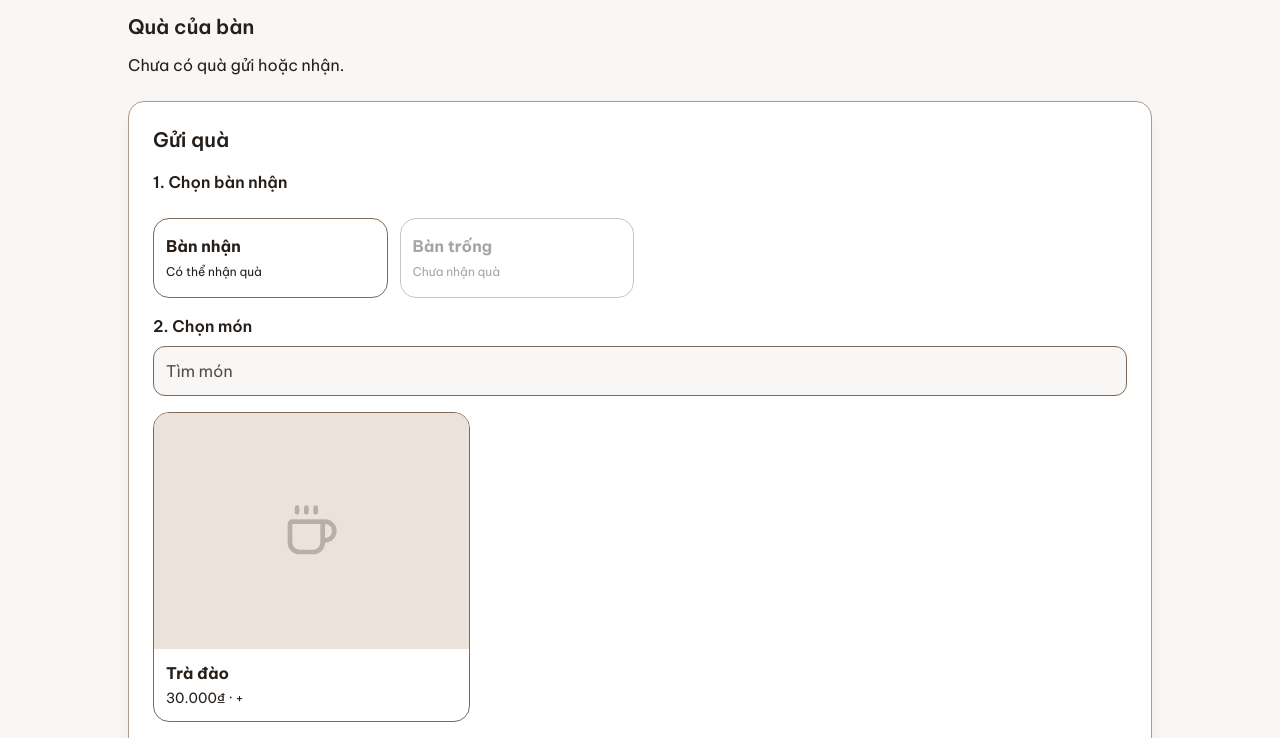
Test: anonymous gift UI › lets the sender choose to show their table for this gift and resets the next draft to anonymous
Click the button "Bàn nhận Có thể nhận quà".
click(270, 258)  # box [153,218,388,298]
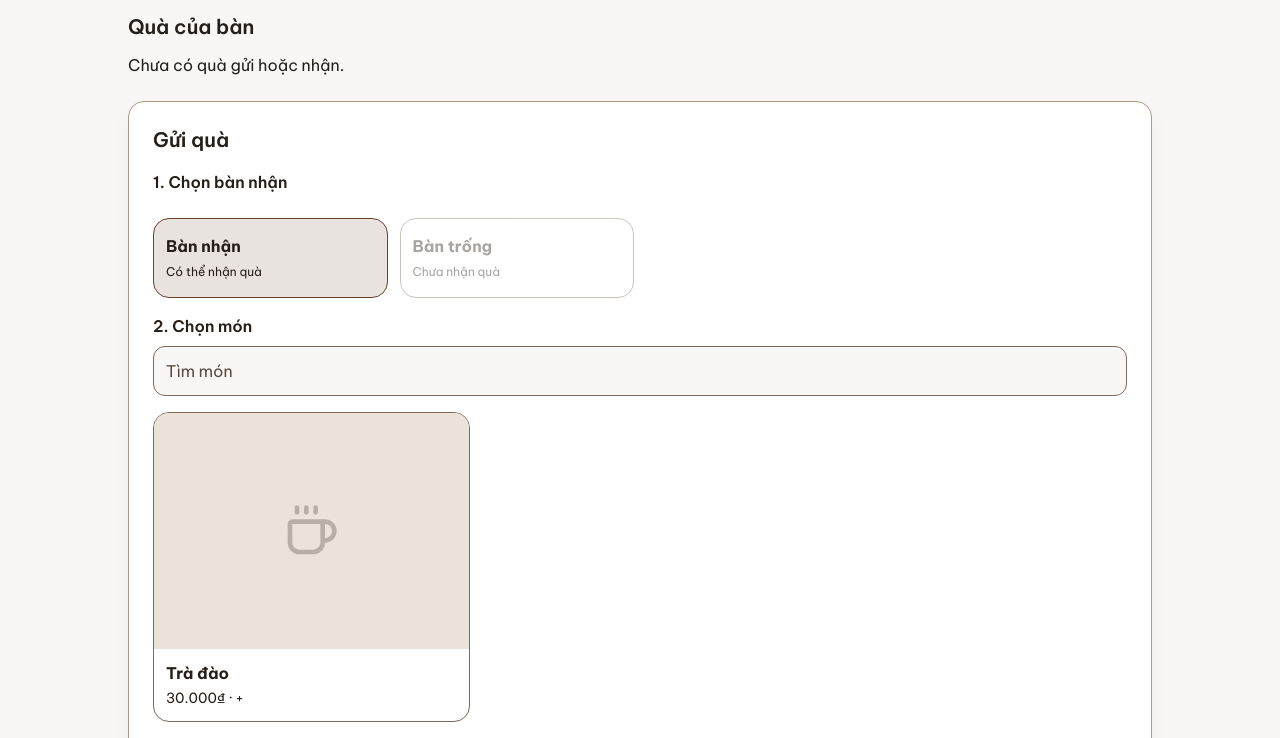
Click the button "Trà đào 30.000₫ · +".
click(311, 567)  # box [153,412,470,722]
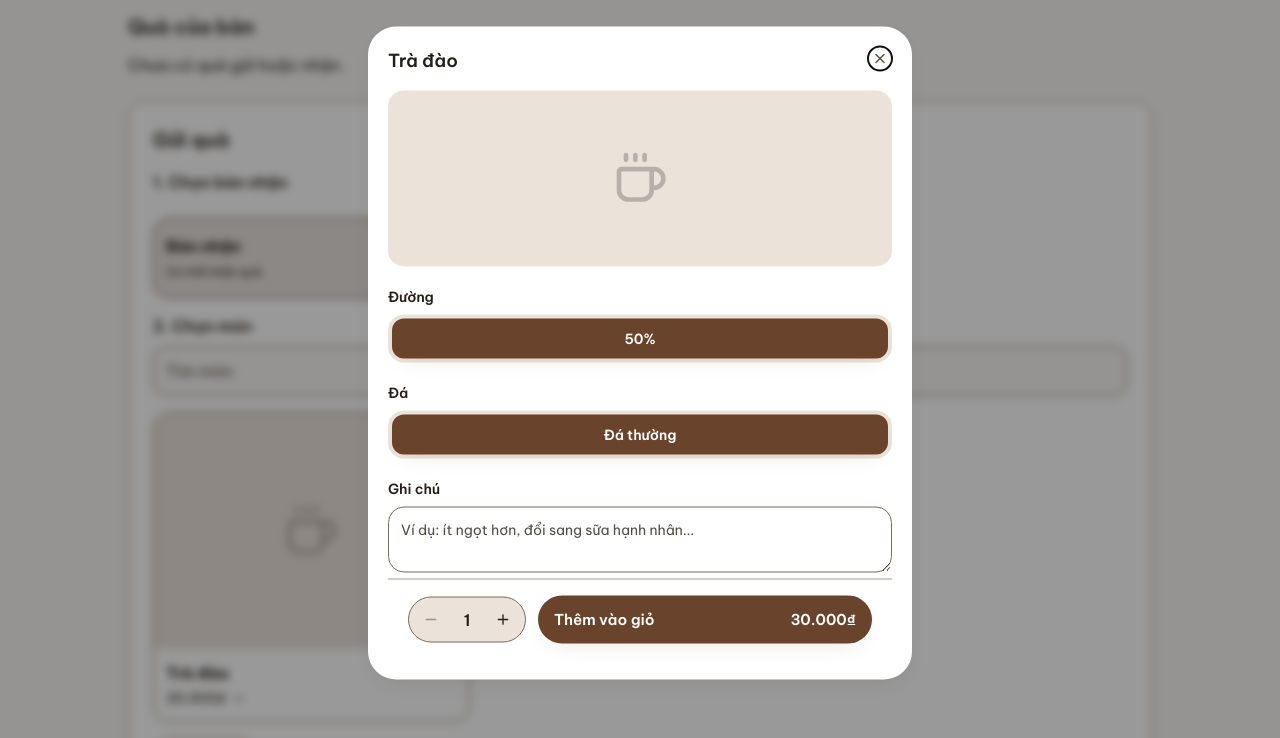
Click the button "Thêm vào giỏ 30.000₫".
click(604, 619)  # box [538,596,872,644]
(page scrolled)
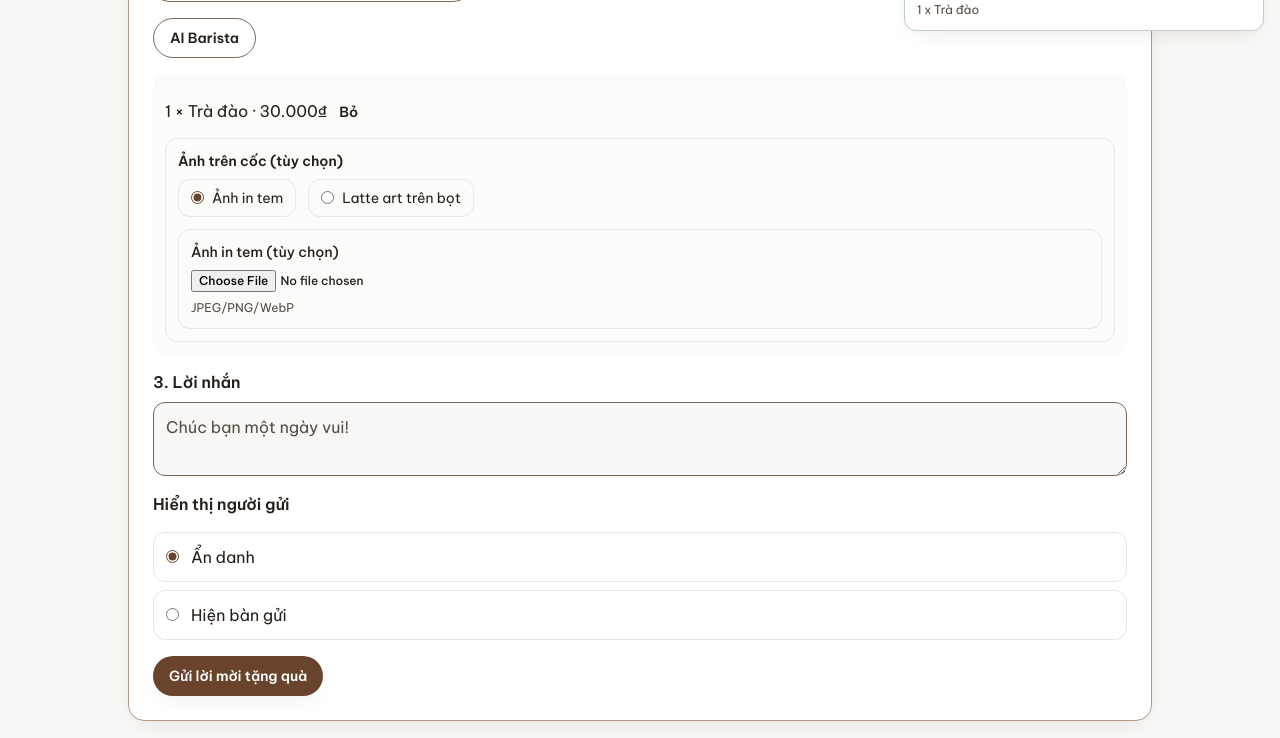
Expected: the dialog is gone
Click the radio button labelled "Hiện bàn gửi".
click(172, 615)  # box [166,608,179,622]
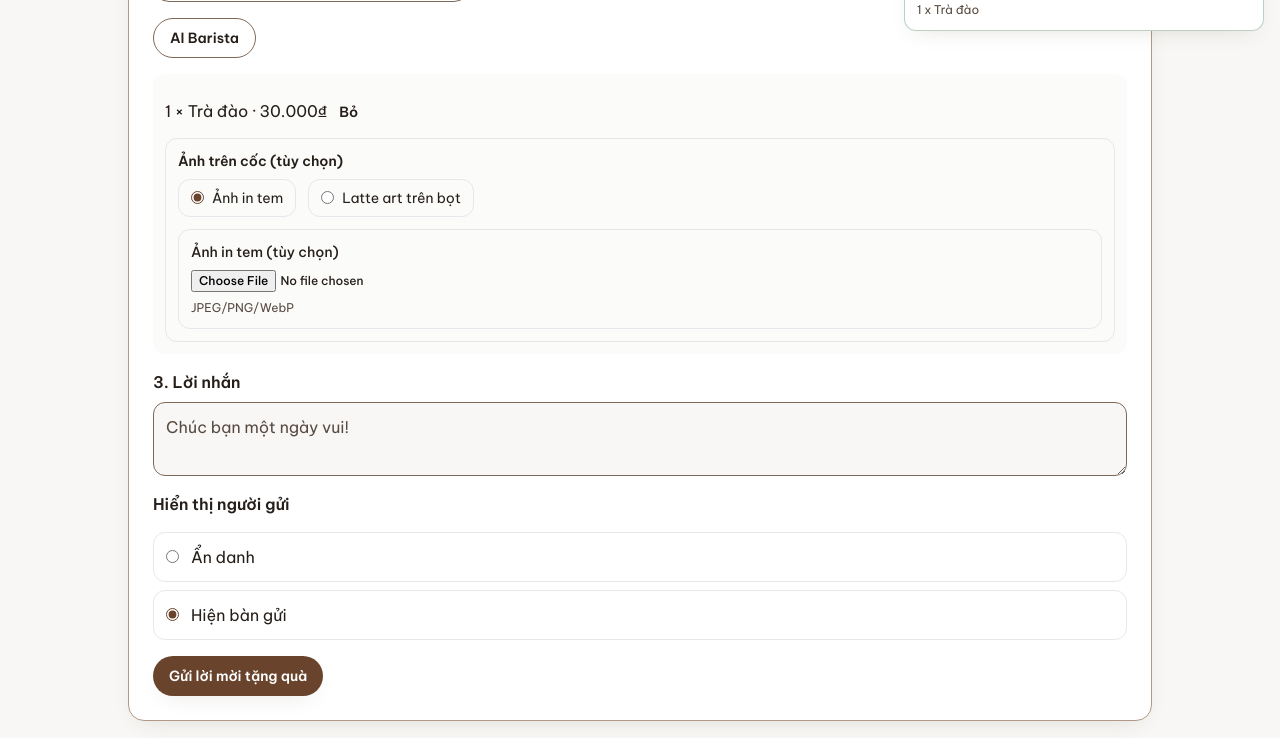
Click the button "Gửi lời mời tặng quà".
click(238, 676)  # box [153,656,323,696]
(page scrolled)
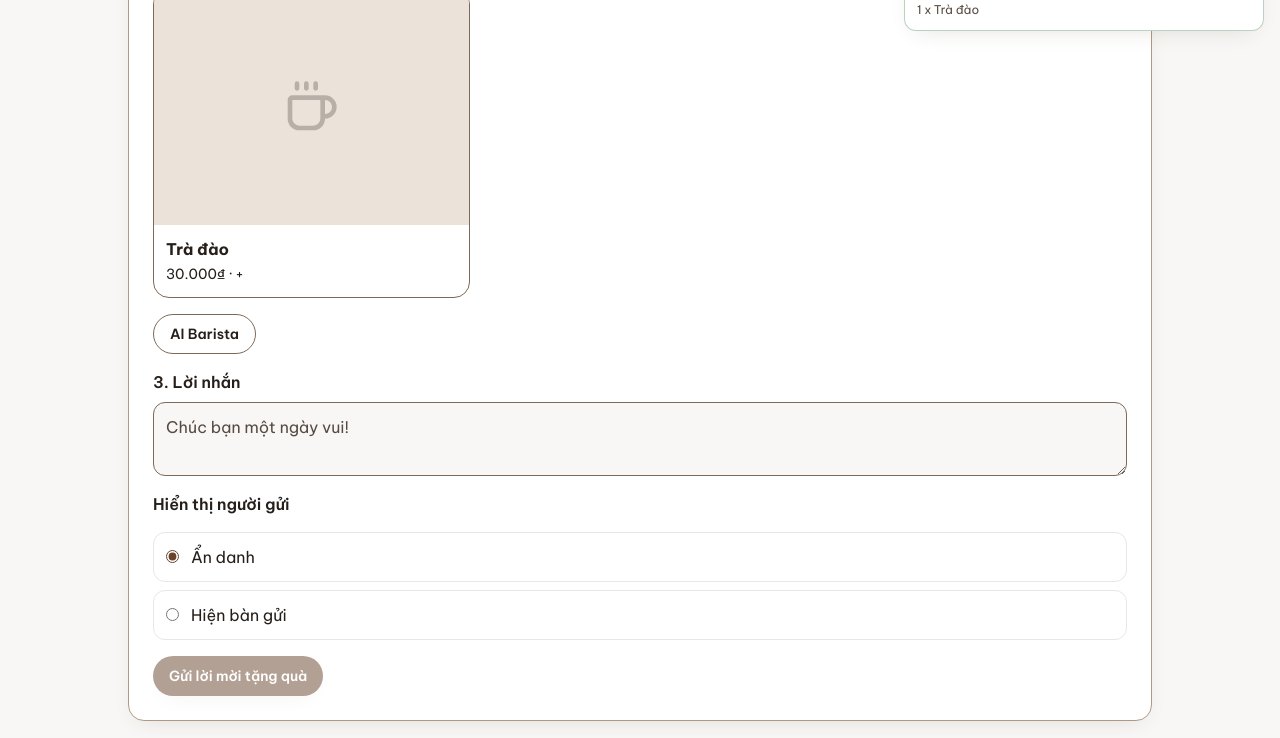
Expected: the radio button labelled "Ẩn danh" is checked, [166,550,179,564]
